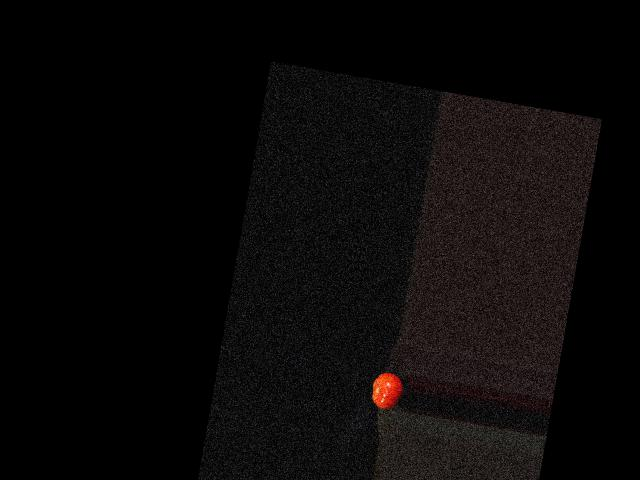tomato: (369, 369, 405, 410)
